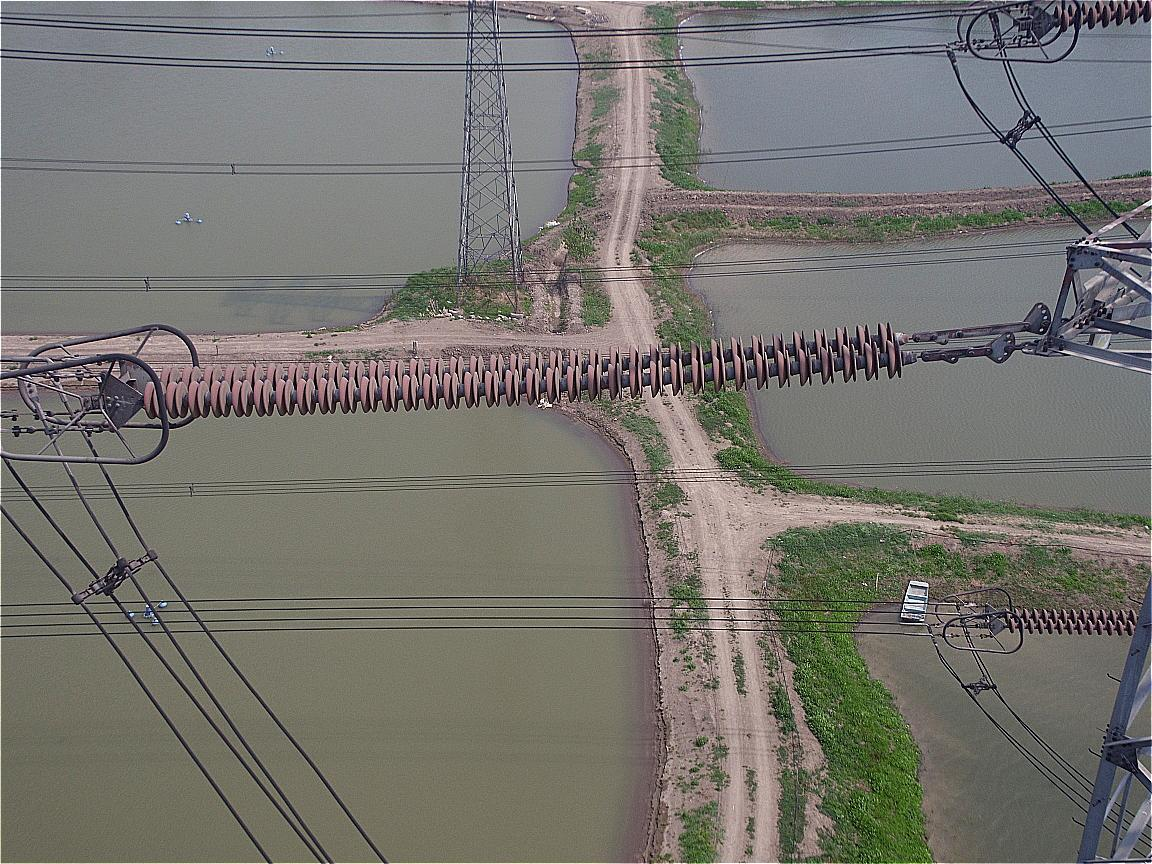insultor2: (111, 316, 917, 430)
